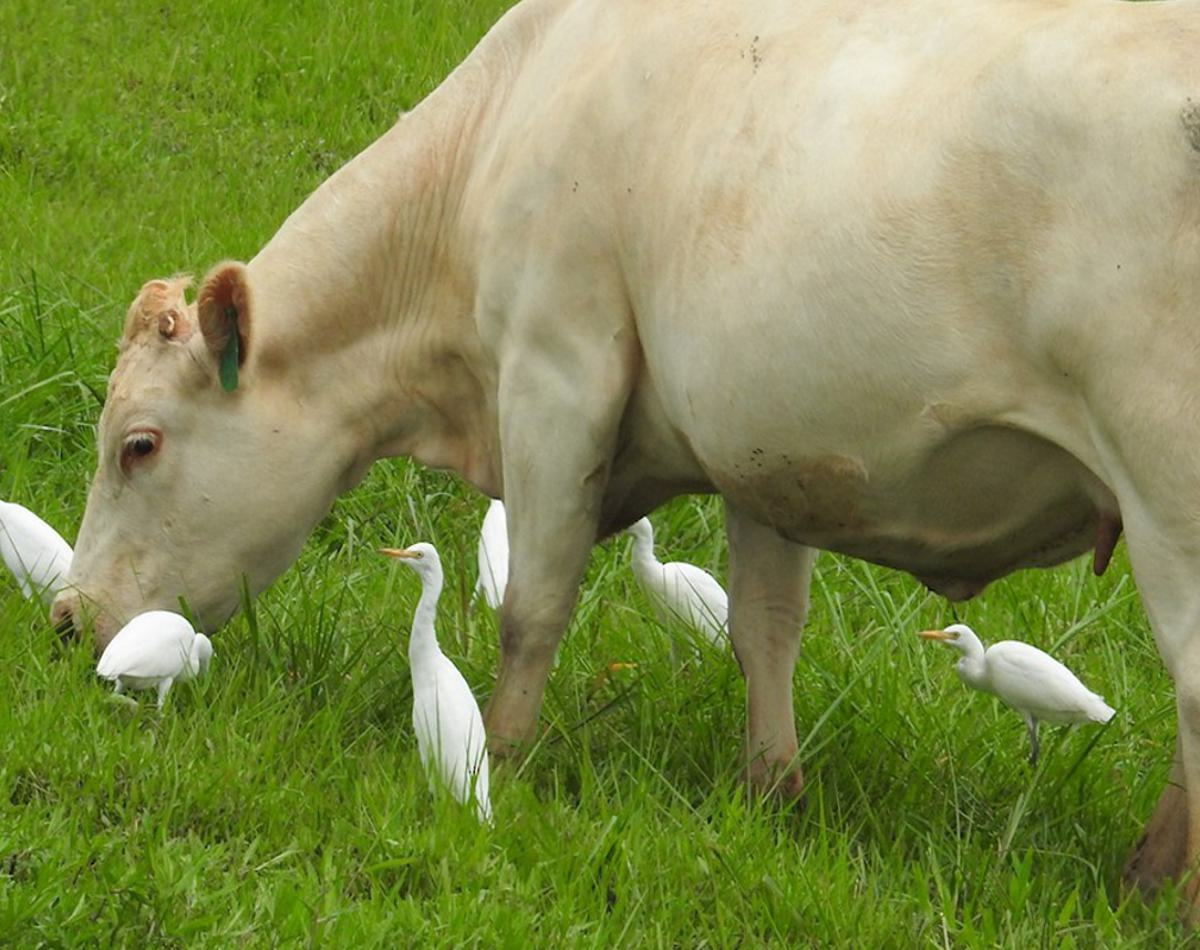egret: (375, 526, 504, 824), (909, 618, 1128, 768), (99, 601, 219, 700)
